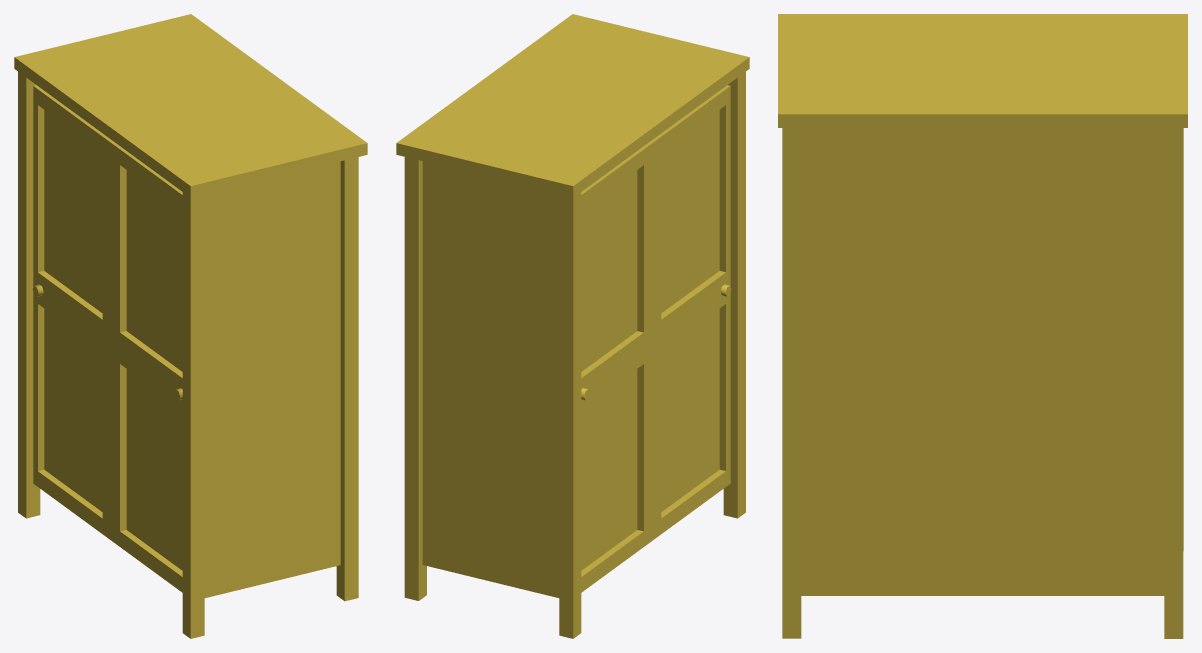
File: Hemnes.fbx
The picture shows the model from 3 angles, left to right: view 1: azimuth 30°, elevation 25°; view 2: azimuth 150°, elevation 25°; view 3: azimuth 270°, elevation 25°; orthographic projection. The views are drawn at different scales.
Parts seen in each view (by area): view 1: Hemnes; view 2: Hemnes; view 3: Hemnes.
Boxes of the visible parts, <box> form: Hemnes: <box>14,14,367,638</box>; Hemnes: <box>396,14,749,638</box>; Hemnes: <box>778,14,1187,638</box>.
Size of the model in its own units: 206 by 506 by 356.
